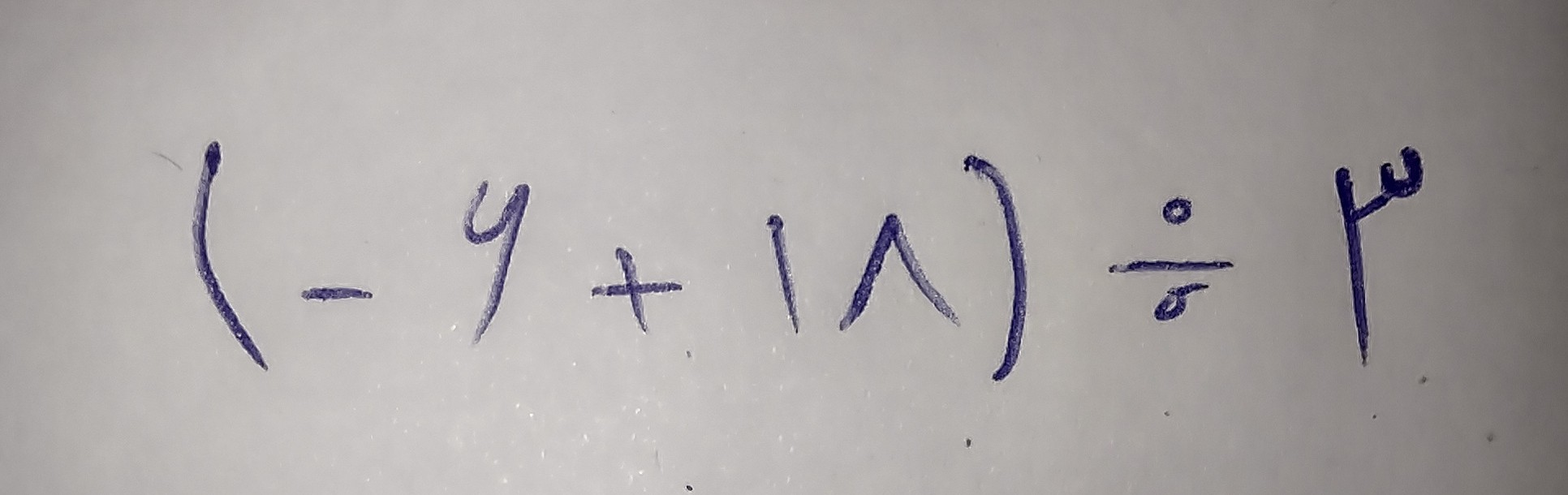character: (1334, 145, 1424, 363), (190, 141, 270, 372), (966, 154, 1036, 390), (1108, 197, 1235, 322), (839, 214, 963, 331), (462, 178, 529, 344), (590, 246, 683, 331), (763, 211, 802, 334), (301, 285, 373, 304)
